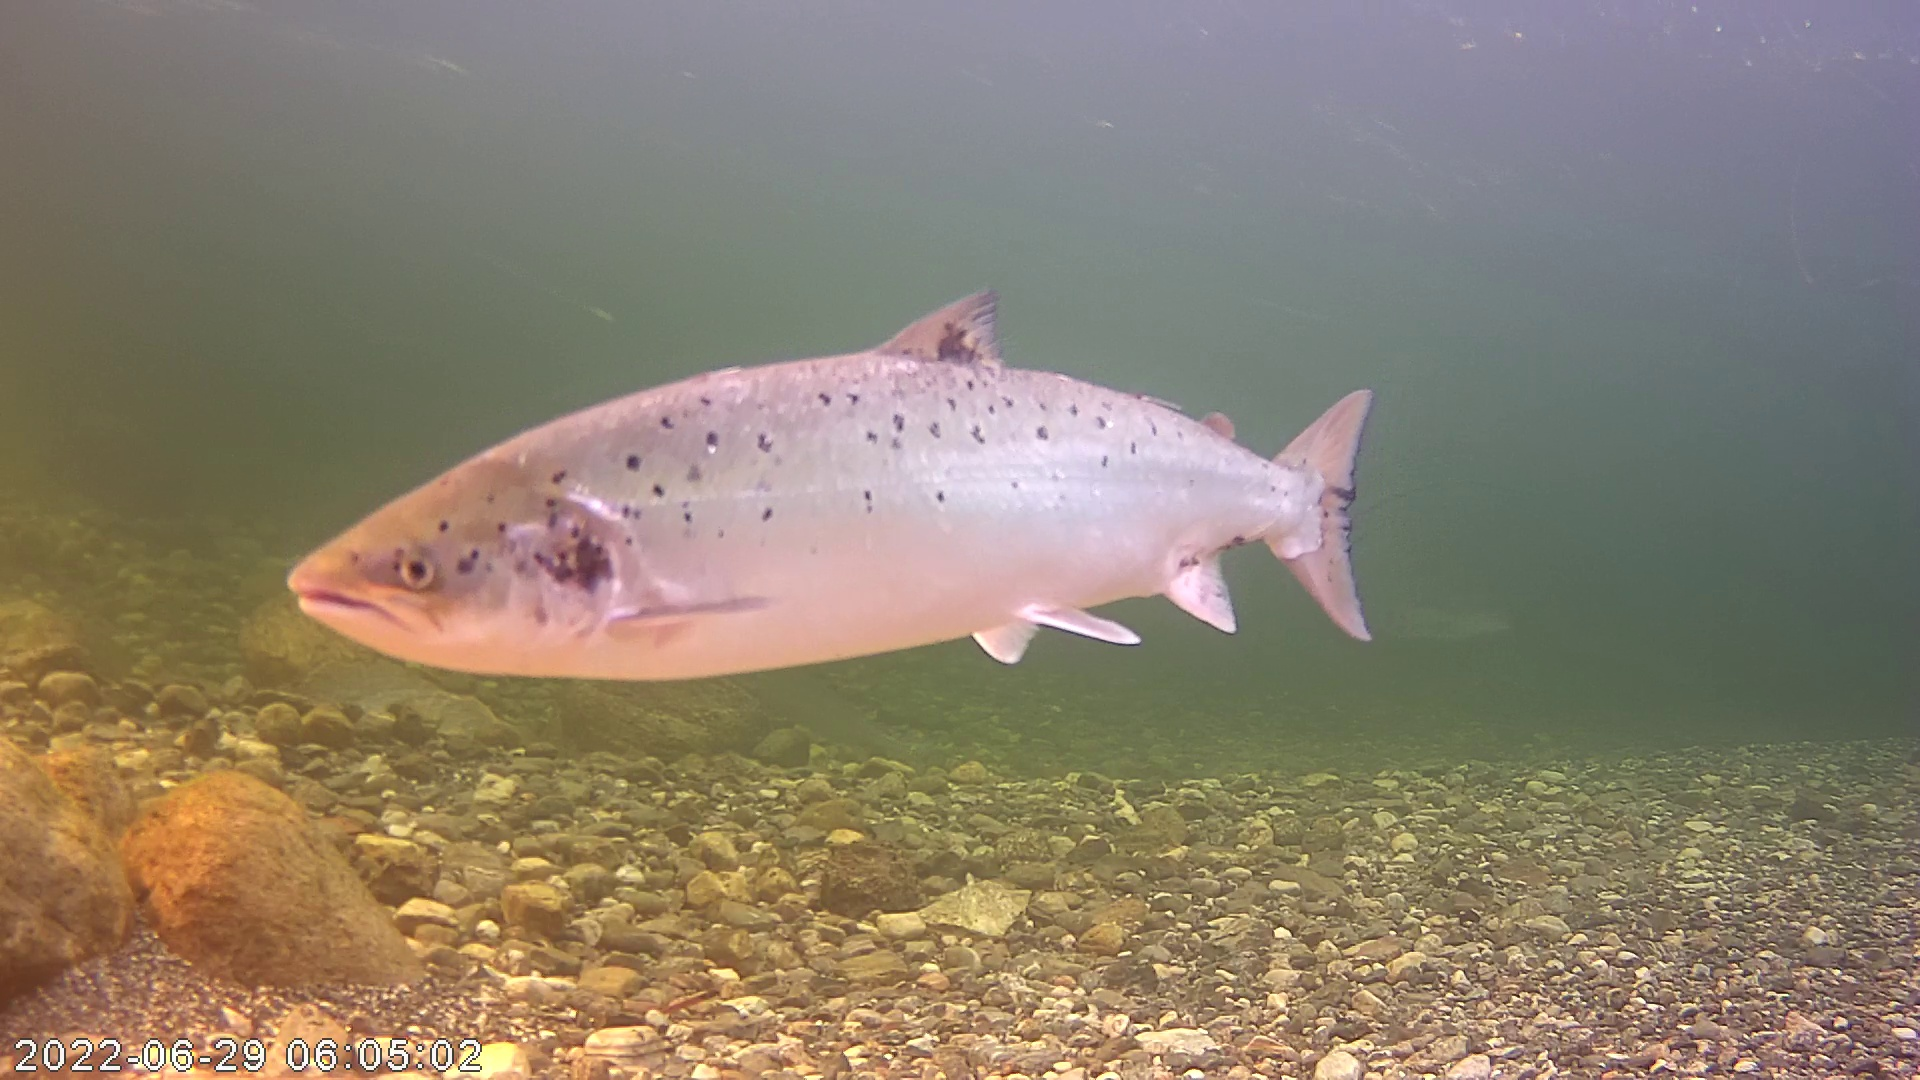salmon: (278, 284, 1381, 690)
